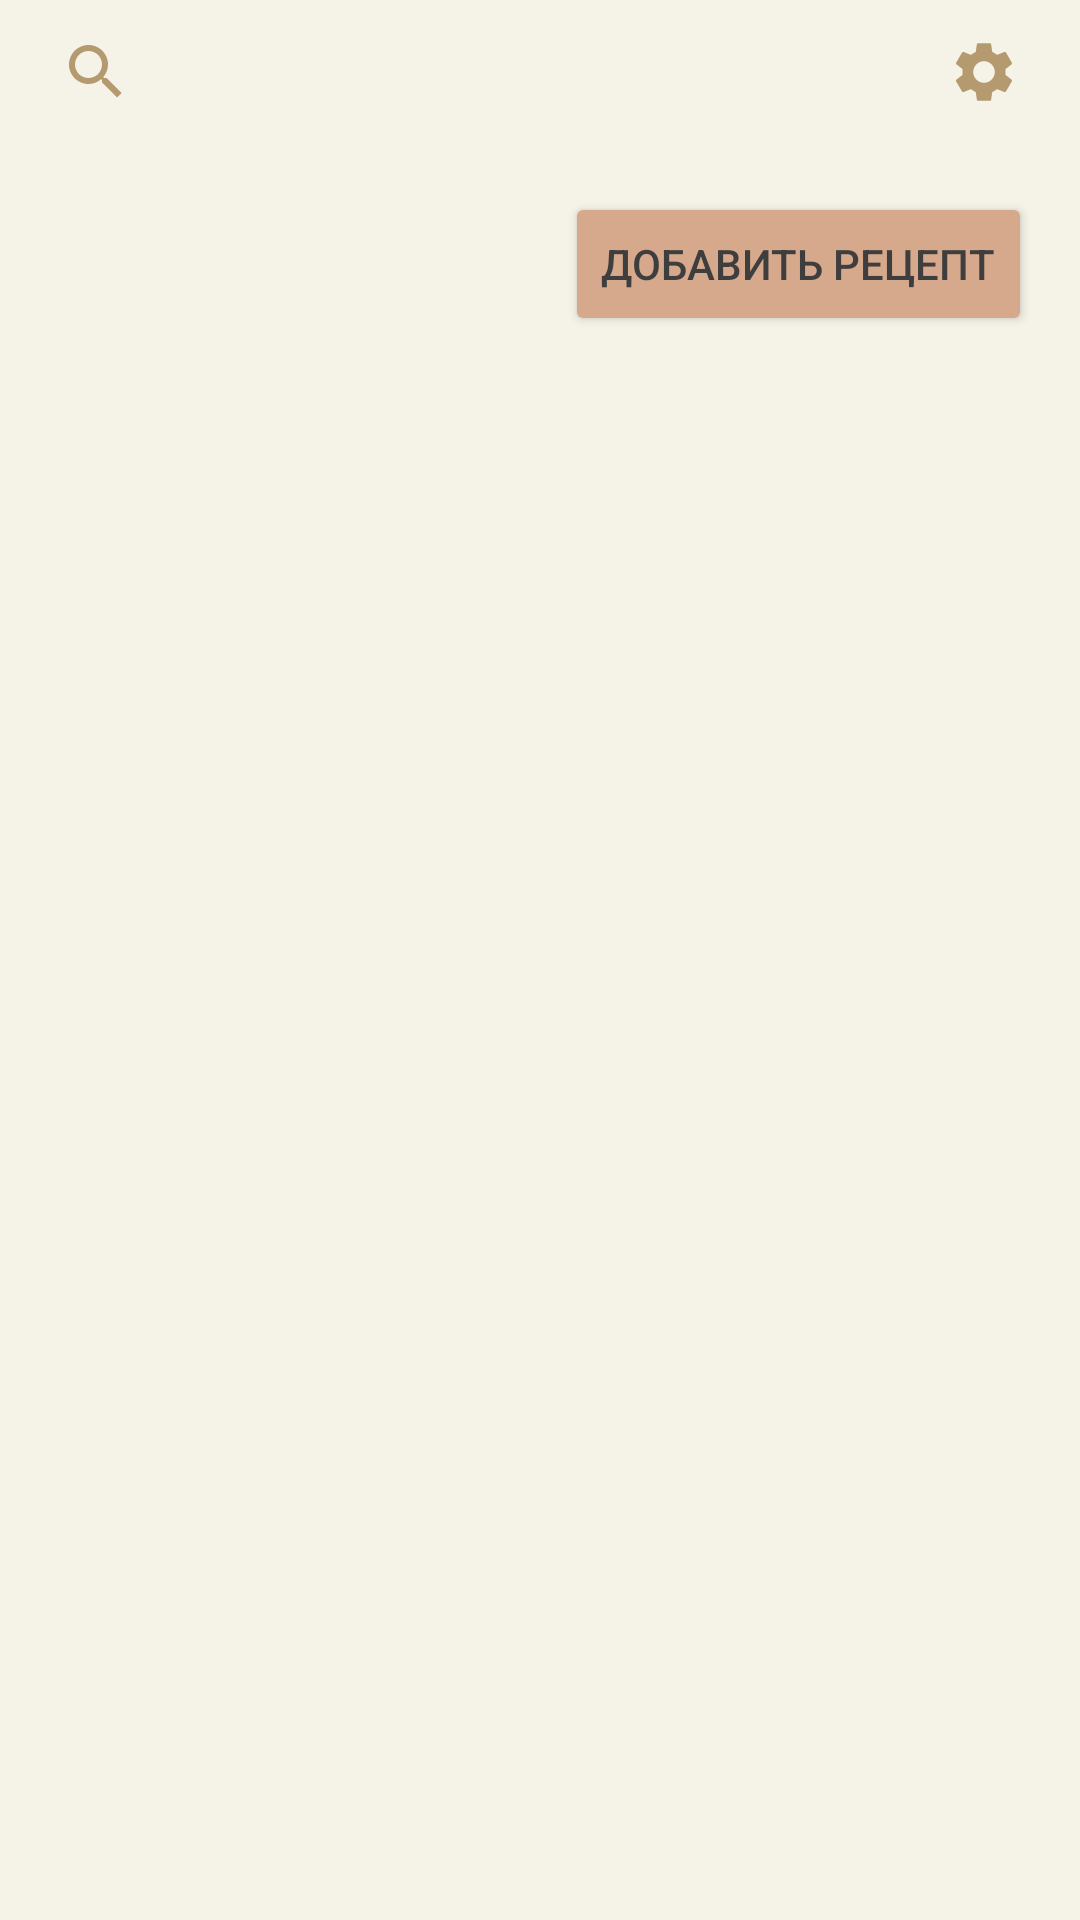

Point at icon controls on the screen. Image size 1080px x 1920px, points as (x,y).
Настройки: (984,72)
